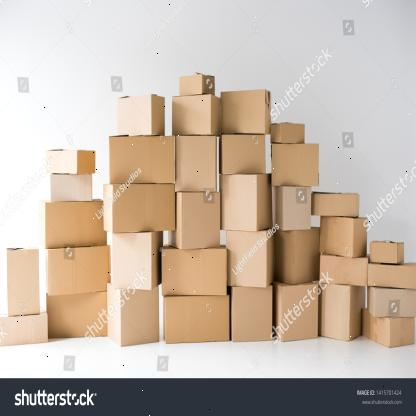box: (109, 135, 175, 184), (112, 184, 176, 233), (161, 249, 227, 296), (48, 246, 110, 296), (166, 296, 230, 343), (46, 292, 108, 338), (45, 201, 104, 249), (226, 231, 267, 289), (121, 287, 160, 347), (175, 136, 216, 192), (220, 173, 258, 233), (112, 234, 152, 290), (232, 288, 273, 342), (182, 192, 220, 250), (7, 249, 39, 317), (272, 143, 319, 188), (221, 89, 266, 134), (282, 285, 318, 341), (318, 284, 351, 341), (223, 135, 266, 174), (172, 95, 211, 136), (0, 314, 48, 346), (294, 228, 320, 286), (320, 216, 354, 259), (118, 95, 152, 136), (320, 258, 368, 286), (374, 288, 416, 318), (368, 264, 416, 290), (51, 174, 93, 203), (284, 188, 312, 230), (361, 310, 390, 348), (311, 194, 357, 217), (46, 150, 78, 174), (369, 242, 398, 264), (280, 123, 304, 144), (180, 74, 202, 96)
